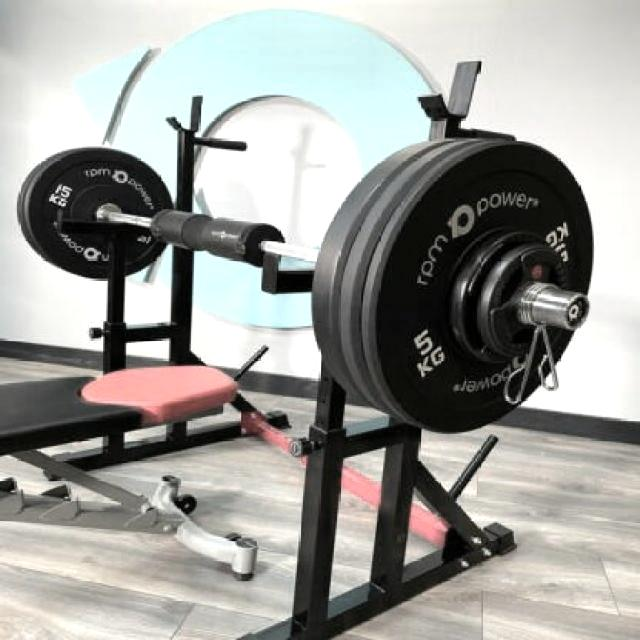barbell: (307, 130, 609, 437)
